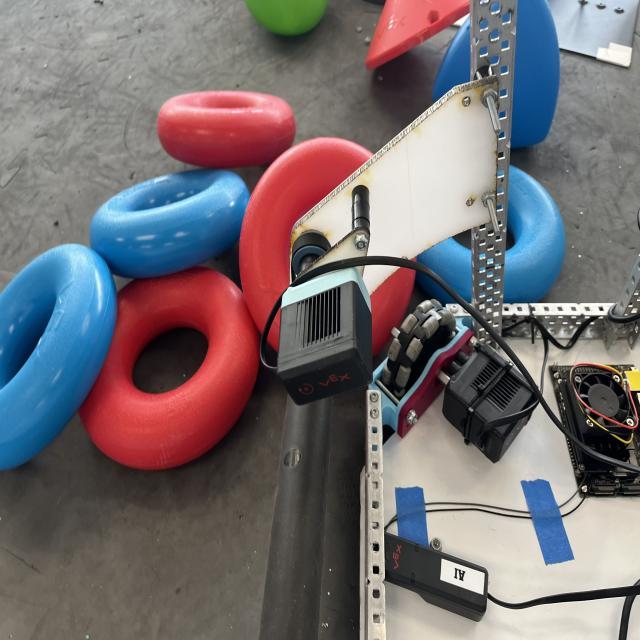Blue-Ring: (0, 243, 118, 470), (421, 158, 561, 313), (90, 168, 250, 278)
Red-Ring: (240, 138, 417, 362), (79, 267, 259, 470), (158, 92, 295, 168), (294, 178, 302, 185), (539, 220, 540, 223)
